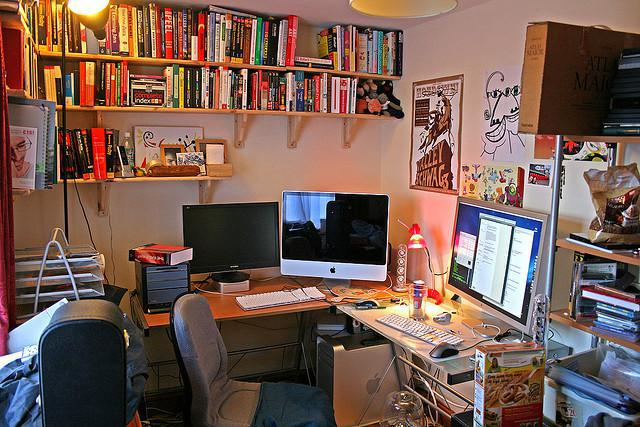tv: (416, 196, 541, 336), (176, 199, 286, 291), (283, 191, 370, 281)
